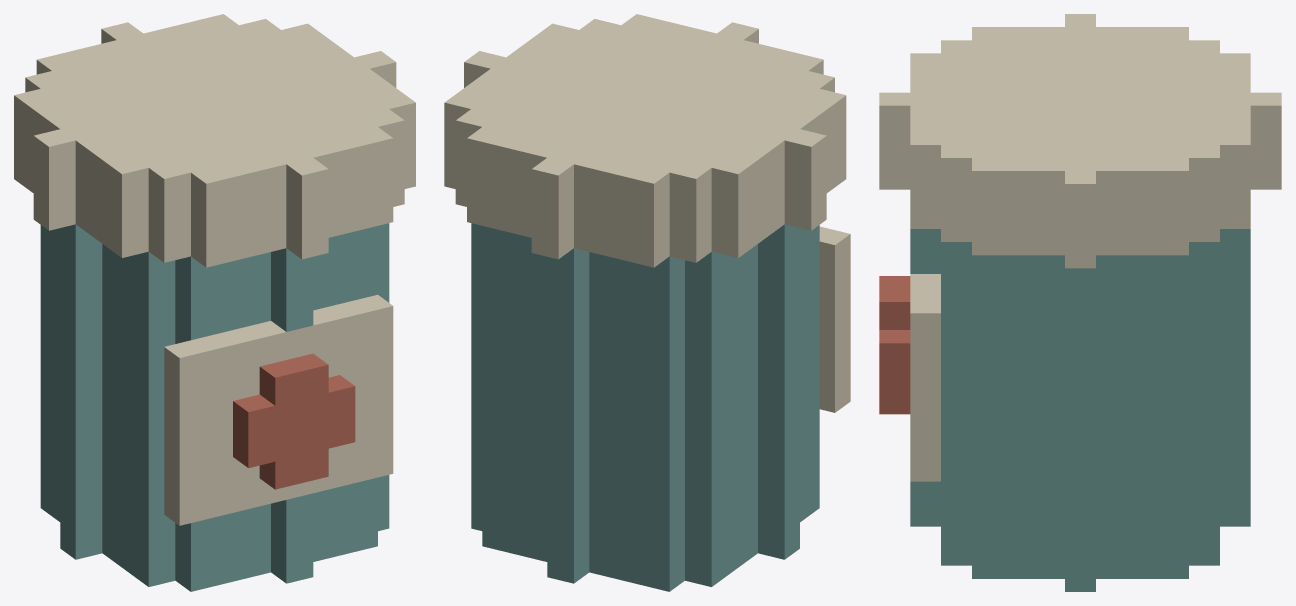
File: health-04.glb
3 renders of one model, left to right at view 1: azimuth 30°, elevation 25°; view 2: azimuth 150°, elevation 25°; view 3: azimuth 270°, elevation 25°, orthographic.
Visible parts, largest first — view 1: Pill bottle; view 2: Pill bottle; view 3: Pill bottle.
Part boxes in pixels (bbox=[...]): Pill bottle: bbox=[14, 14, 415, 591]; Pill bottle: bbox=[444, 14, 850, 591]; Pill bottle: bbox=[879, 14, 1281, 591].
Size of the model in its own units: 1.04 by 1.2 by 1.04.
